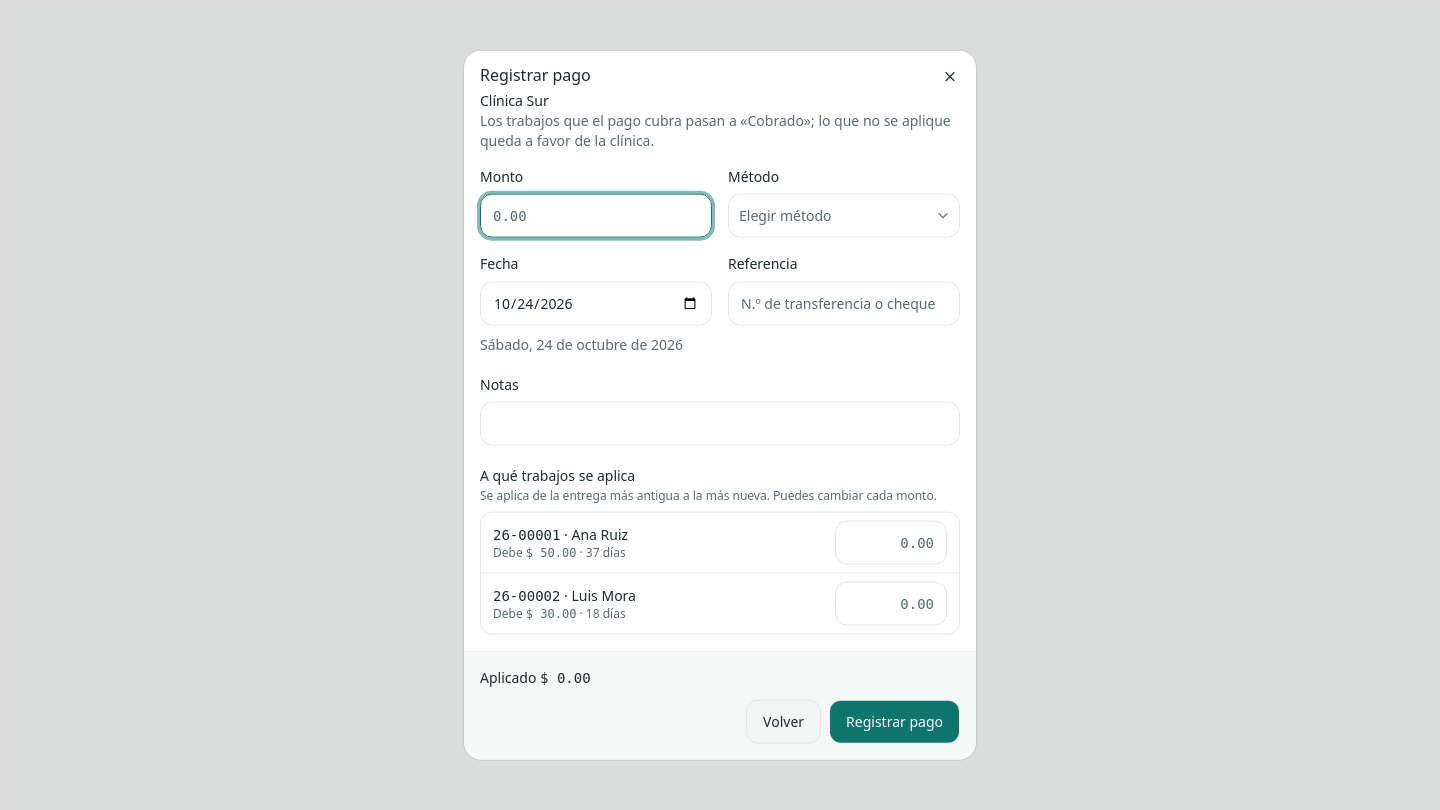
PaymentDialog («Registrar pago», CTA-2) › un 422 de la API se pinta bajo su campo, también en la fila del reparto
This screenshot has width=1440, height=810.
Type "30" into the field labelled "Monto".
click(596, 216); type("30")  # box [480,194,712,238]
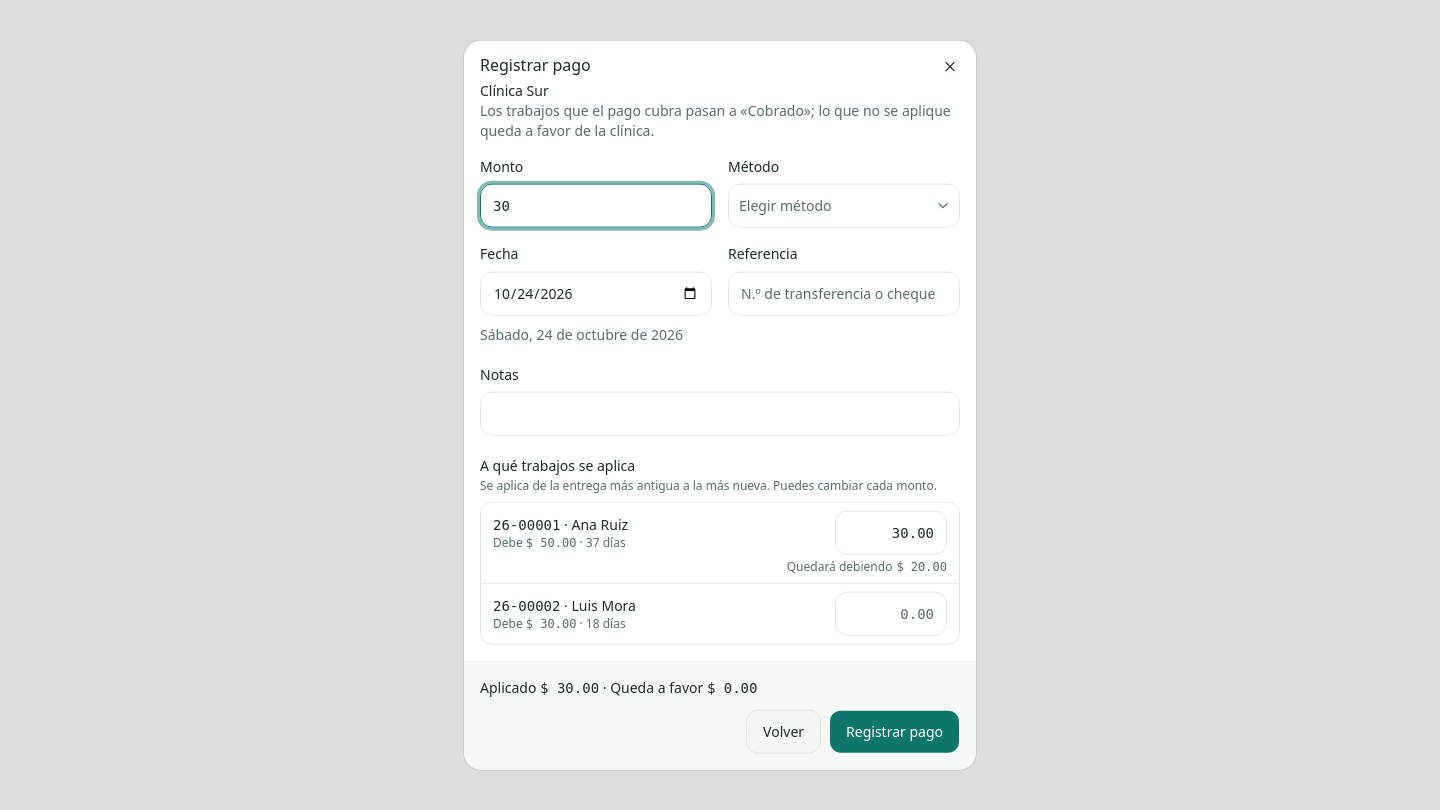
Clear the field named "Monto para 26-00001" at (891, 532), box [835,510,947,554]
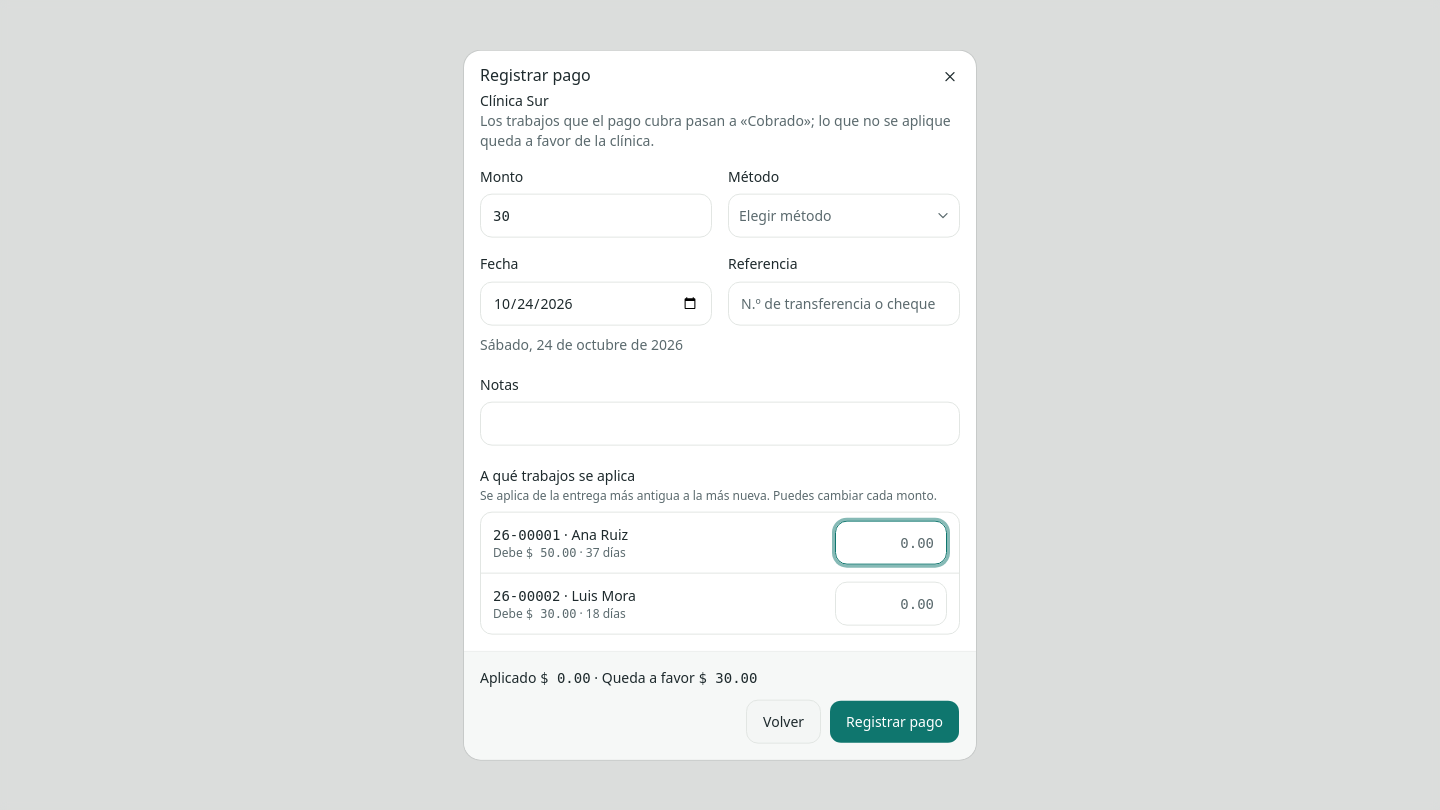
Type "30" into the field named "Monto para 26-00002".
click(891, 603); type("30")  # box [835,581,947,625]
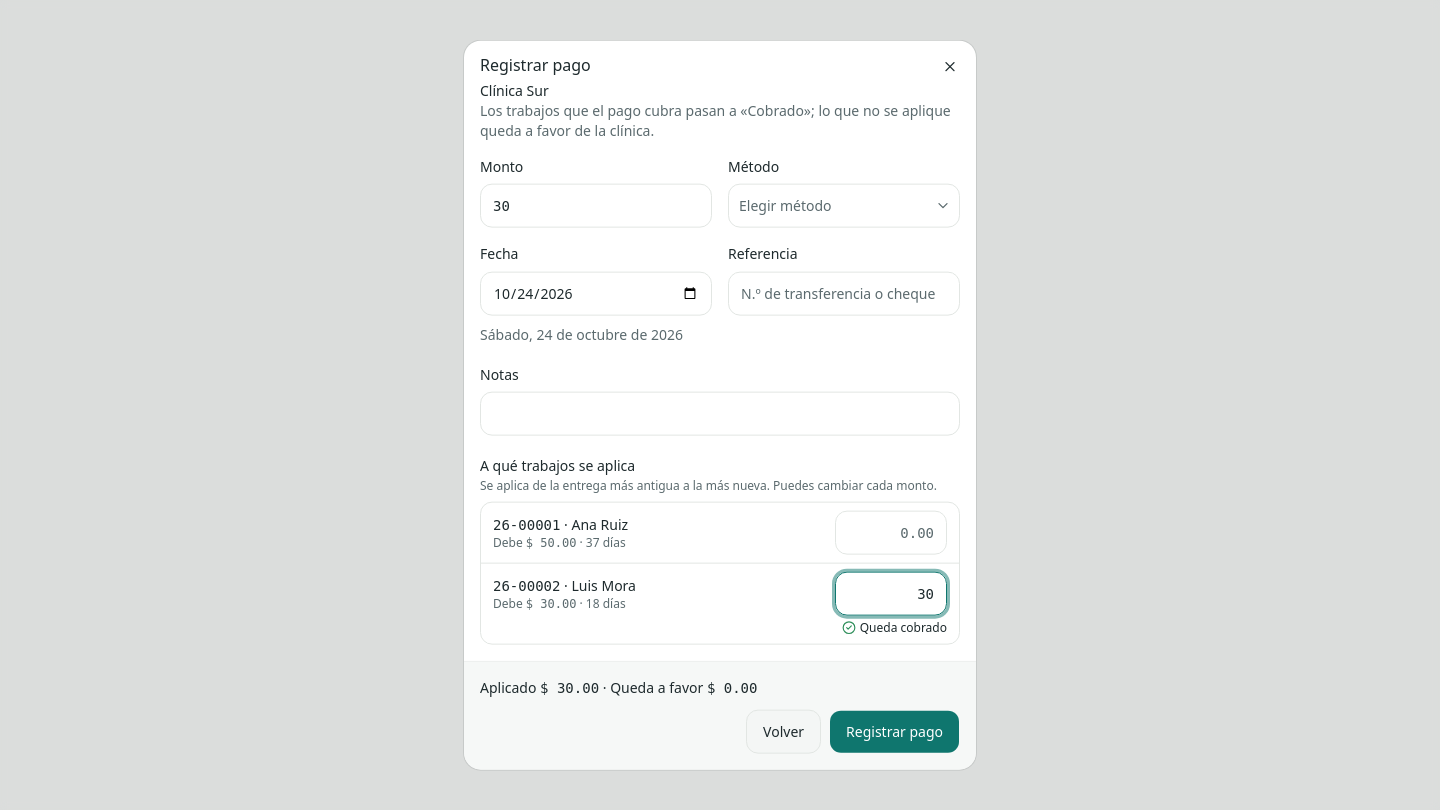
Click the dropdown labelled "método".
click(844, 206)  # box [728,184,960,228]
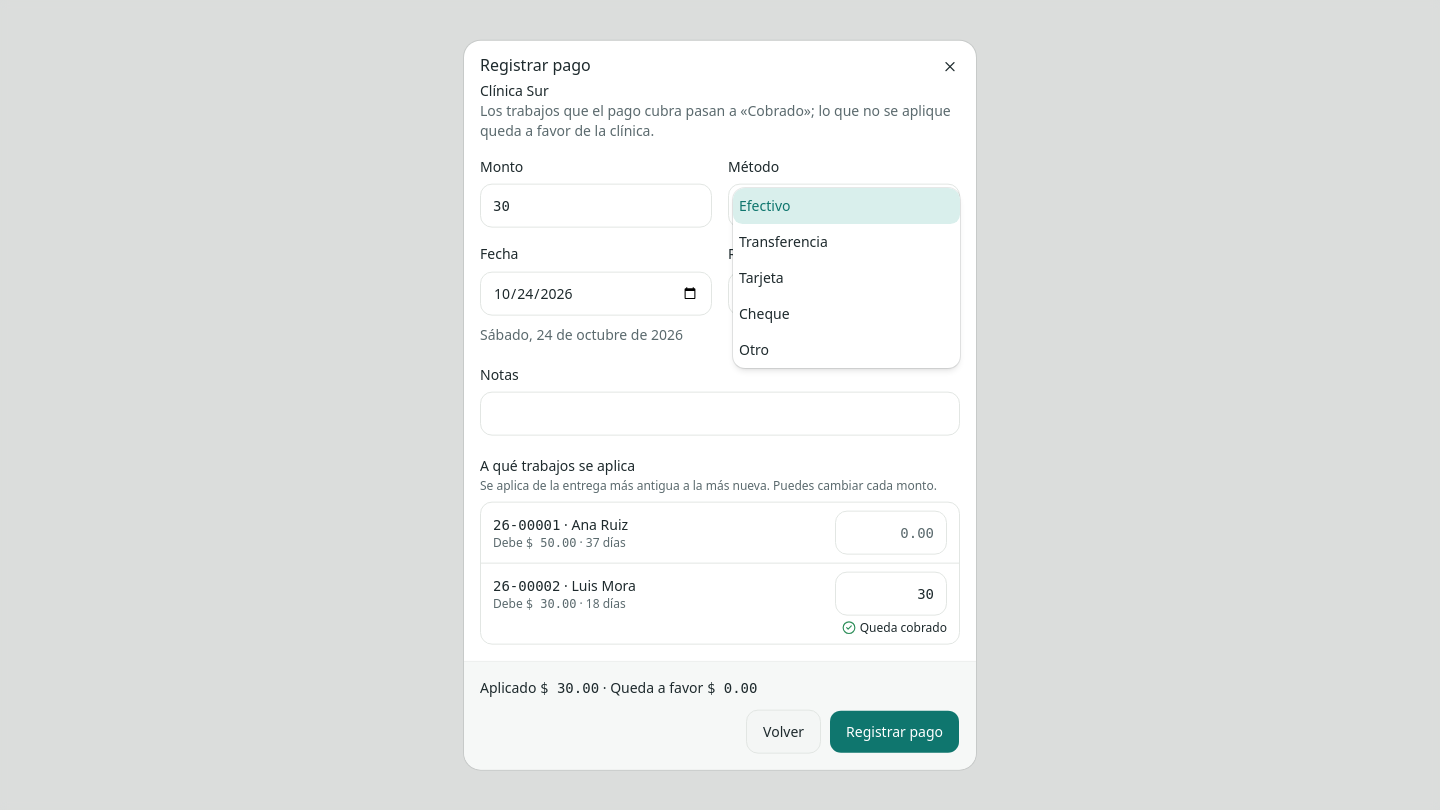
Click the option "Efectivo".
click(846, 206)  # box [733,188,960,224]
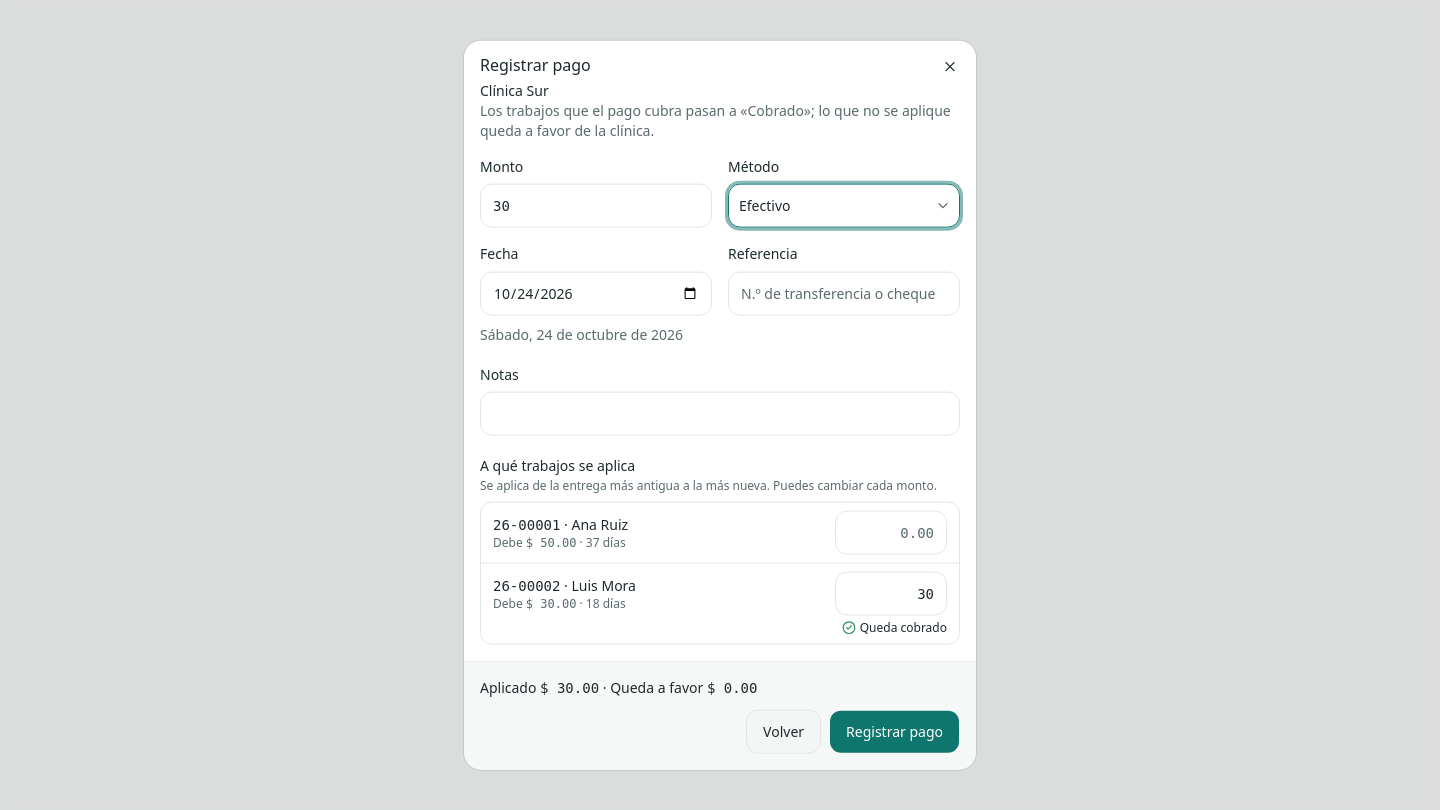
Click the button "Registrar pago".
click(895, 731)  # box [829,709,960,753]
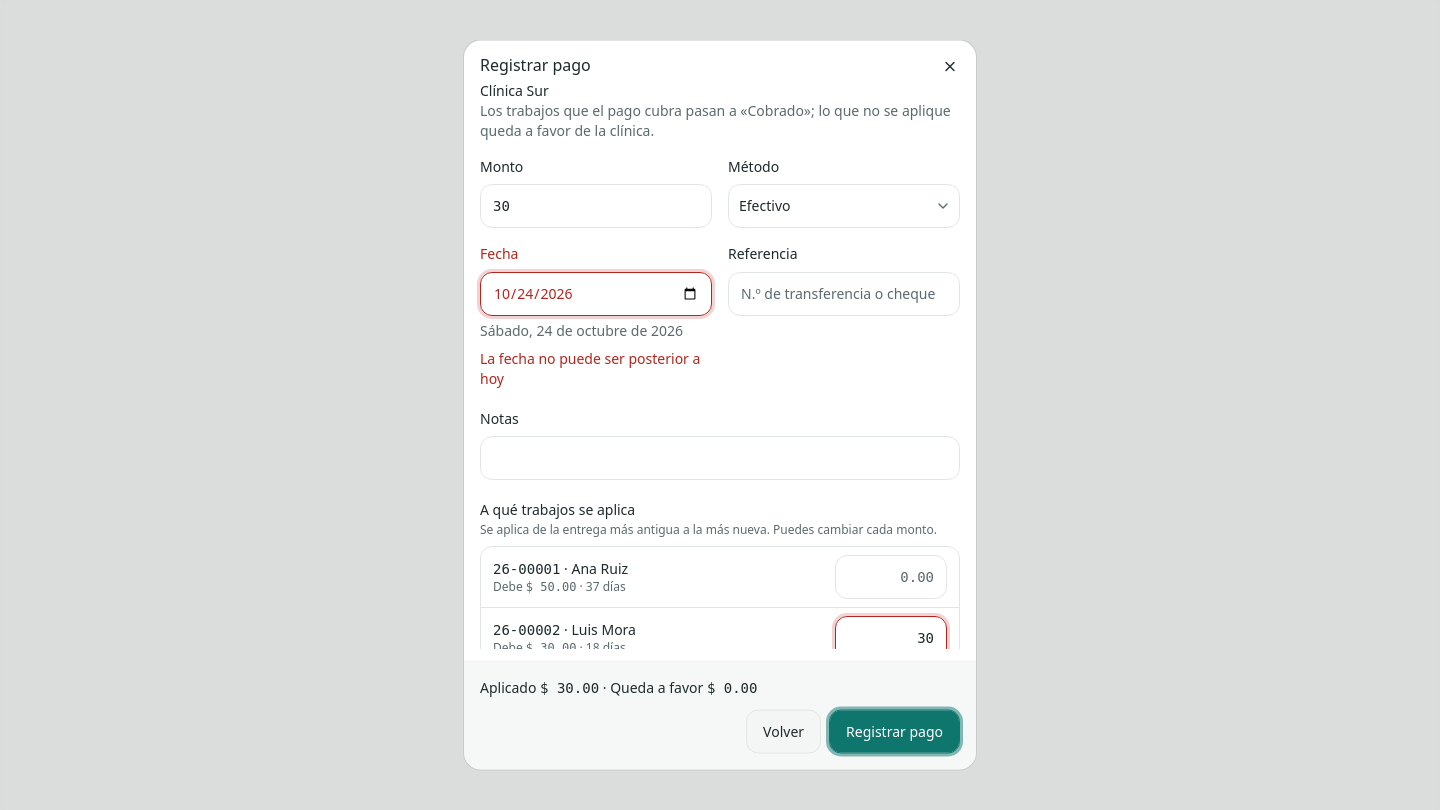
expect the text "La fecha no puede ser posterior a hoy" is shown: met, box [480,348,712,388]
